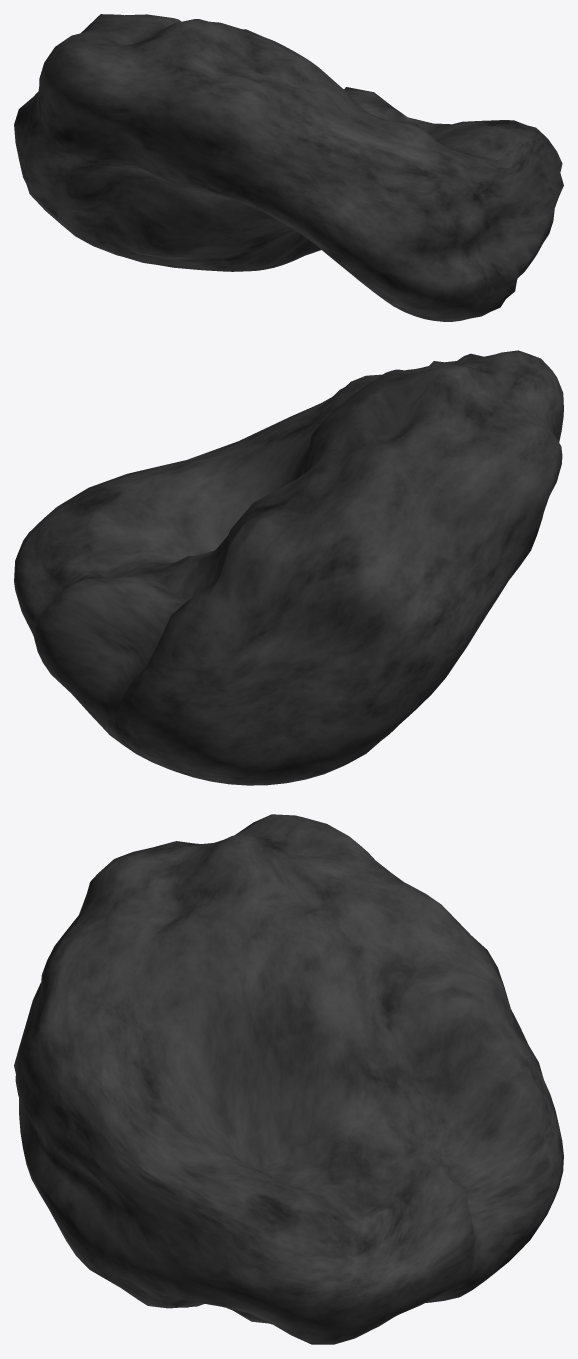
File: meteor2.fbx
3 views of the same model, one above another, from view 1: azimuth 30°, elevation 25°; view 2: azimuth 150°, elevation 25°; view 3: azimuth 270°, elevation 25° (orthographic). The views are drawn at different scales.
Parts seen in each view (by area): view 1: Sphere; view 2: Sphere; view 3: Sphere.
Boxes of the visible parts, x1=… form: Sphere: x1=14, y1=14, x2=563, y2=321; Sphere: x1=14, y1=350, x2=563, y2=785; Sphere: x1=14, y1=814, x2=563, y2=1344.
Bounding box in the file's own units: 218 × 143 × 198.
1 material, 1 textured.
